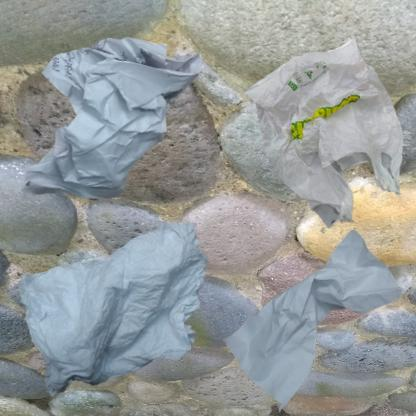bolsa: (213, 10, 416, 256)
papel: (10, 10, 218, 249), (10, 213, 249, 413), (213, 213, 414, 416)
